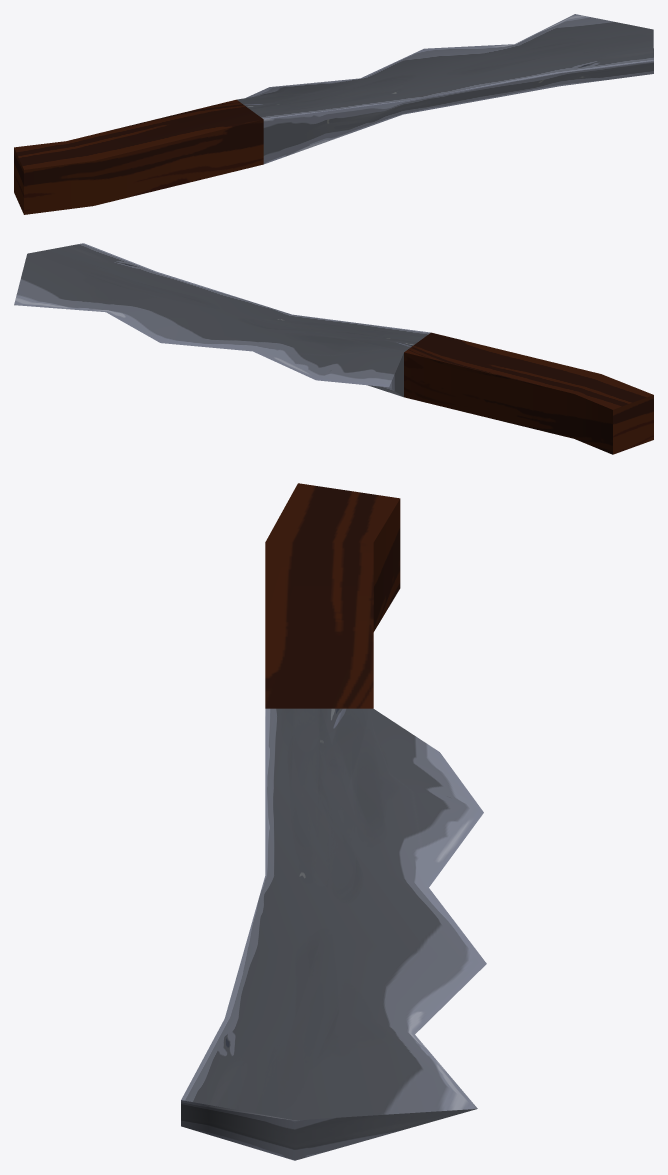
The model's file is SM_PROP_knife_02.fbx.
The picture shows the model from 3 angles, top to bottom: view 1: azimuth 30°, elevation 25°; view 2: azimuth 150°, elevation 25°; view 3: azimuth 270°, elevation 25°; orthographic projection. The views are drawn at different scales.
Visible parts, largest first — view 1: SM_PROP_knife_02; view 2: SM_PROP_knife_02; view 3: SM_PROP_knife_02.
Part boxes in pixels (x1,y1,x2,y2): SM_PROP_knife_02: (14, 14, 653, 214); SM_PROP_knife_02: (14, 243, 653, 454); SM_PROP_knife_02: (181, 483, 486, 1160).
Size of the model in its own units: 73.96 by 5.06 by 15.61.
